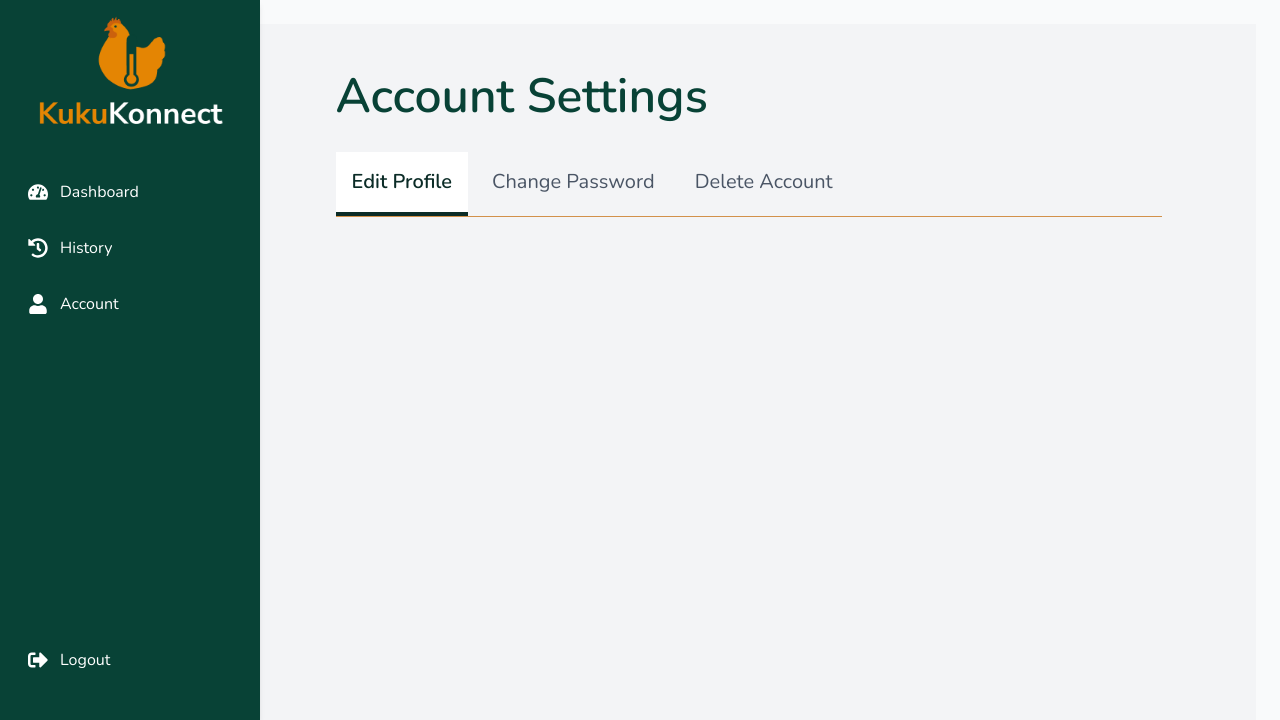
Test: AccountSettingsPage › shows ChangePasswordForm for Farmer user_type
Click the button "Change Password". click: {"x": 573, "y": 184}
box: [476,152,671,216]
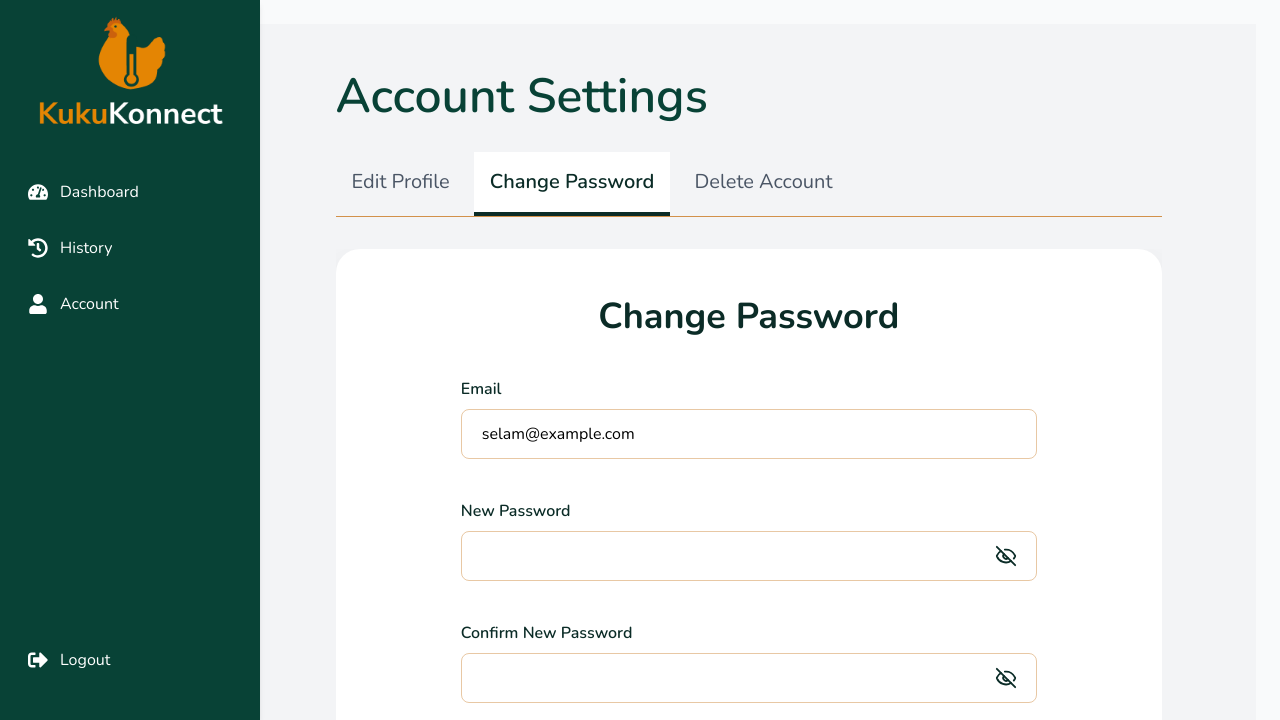
Expected: the password field labelled "New Password" is shown, [461,531,1037,581]
Expected: the password field labelled "Confirm New Password" is shown, [461,653,1037,703]
